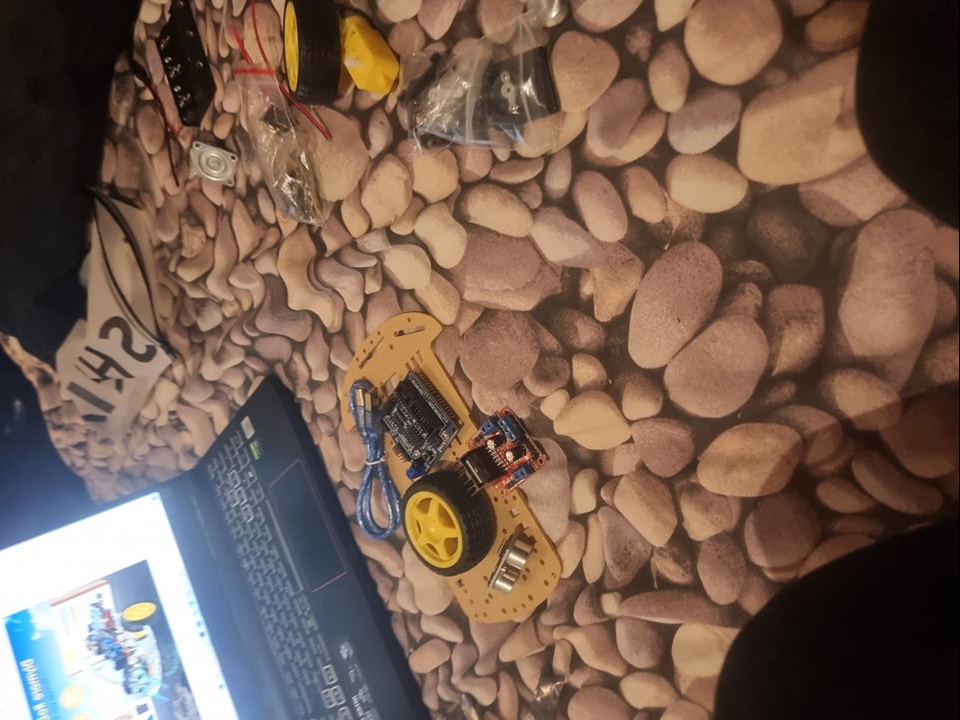5V EXPANSION: (377, 368, 463, 478)
BATTERY BOX: (142, 8, 218, 127)
MOTOR: (462, 406, 551, 497)
SENSOR: (491, 533, 535, 597)
